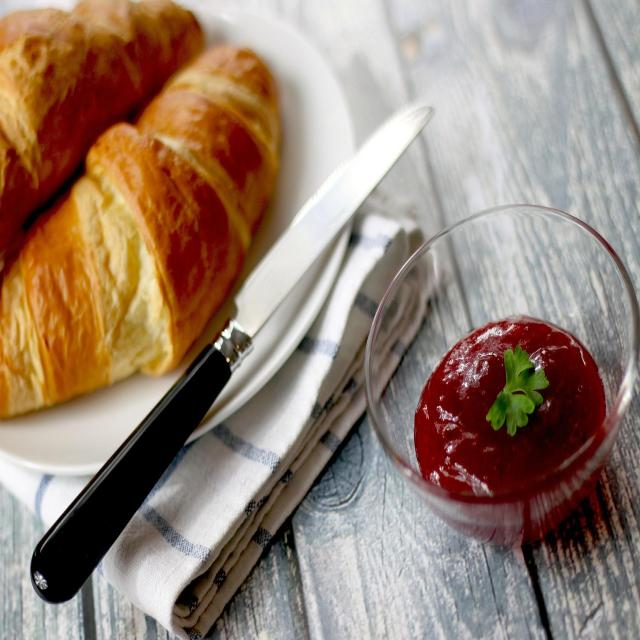Knife: (32, 105, 431, 601)
